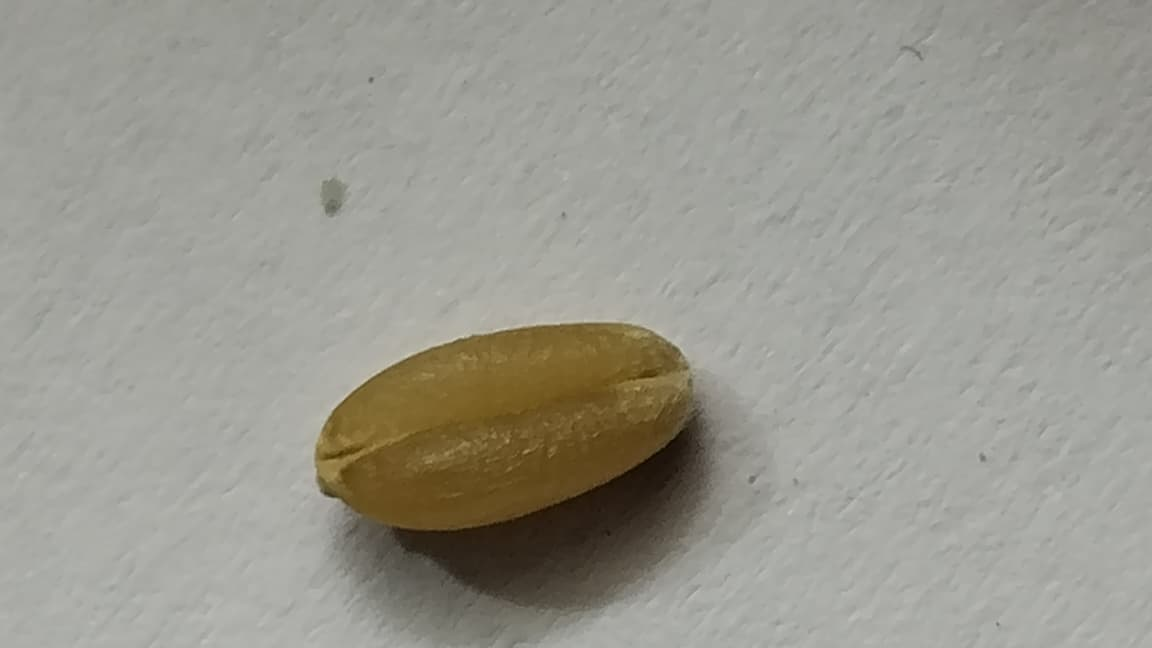healthy: (315, 318, 697, 527)
